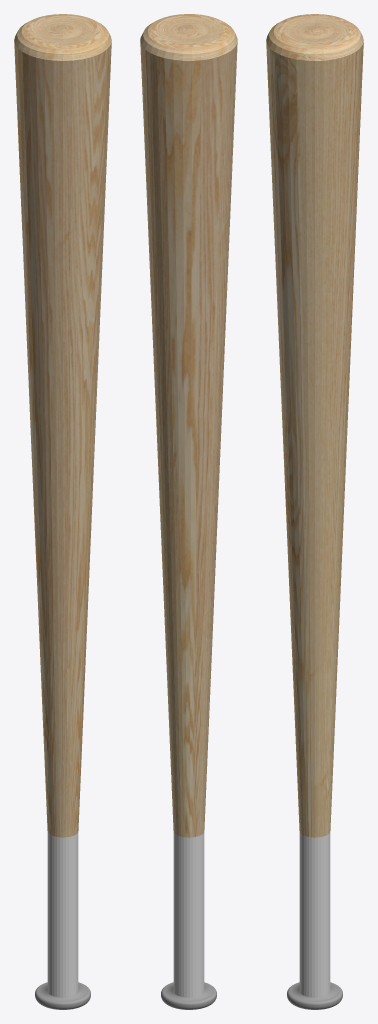
The model's file is baseball_Bat_Color.fbx.
3 views of the same model, side by side, from view 1: azimuth 90°, elevation 25°; view 2: azimuth 150°, elevation 25°; view 3: azimuth 270°, elevation 25° (orthographic).
Parts seen in each view (by area): view 1: Bat; view 2: Bat; view 3: Bat.
Boxes of the visible parts, x1,y1,x2,y2 form: Bat: (14, 14, 111, 1009); Bat: (140, 14, 237, 1009); Bat: (266, 14, 363, 1009).
Bounding box in the file's own units: 196 × 2151 × 196.
Materials: 3 (1 with a texture image).
